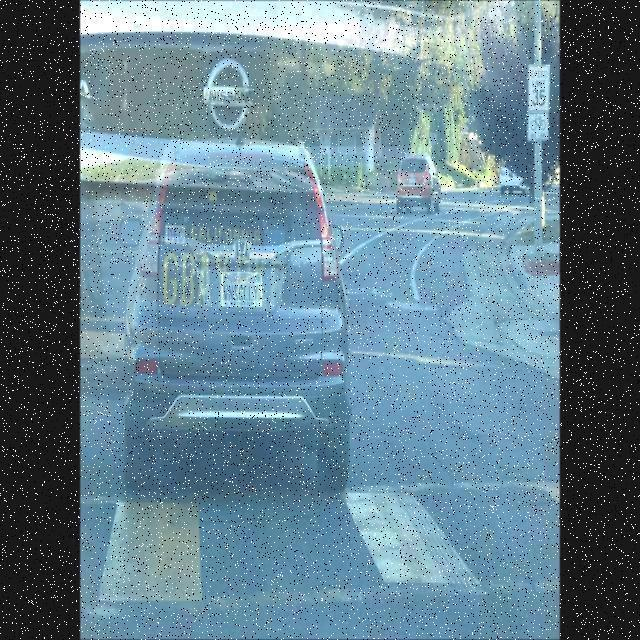License Plate: (220, 272, 264, 308), (408, 178, 416, 182)
